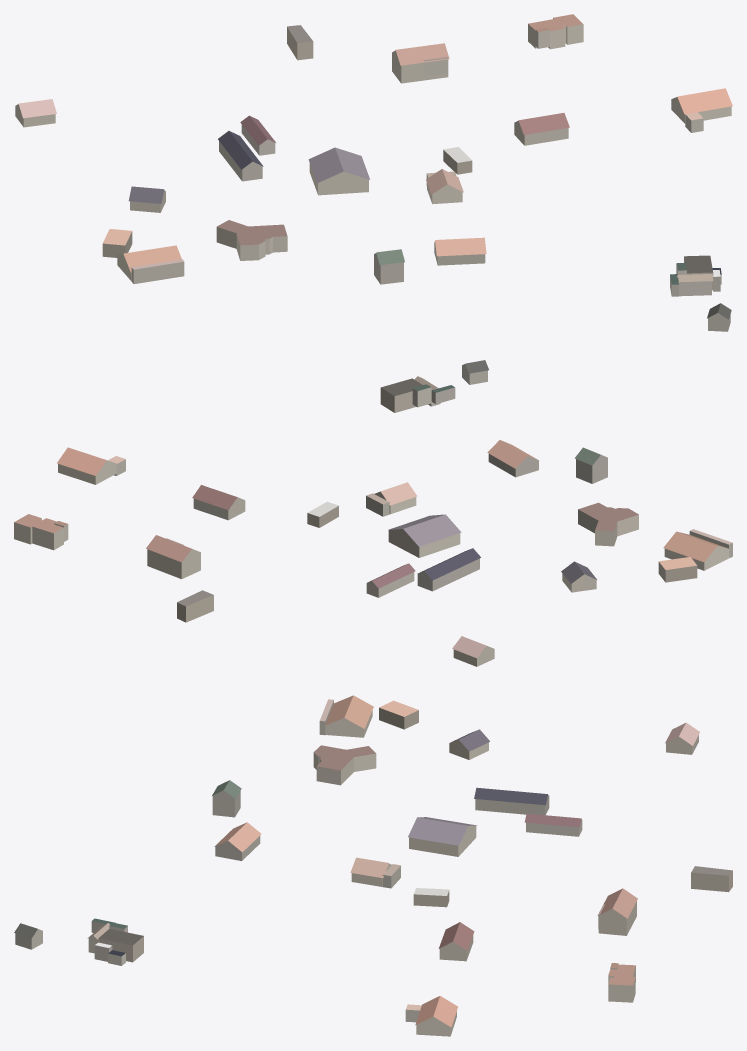
The picture shows the model from 3 angles, top to bottom: view 1: azimuth 30°, elevation 25°; view 2: azimuth 150°, elevation 25°; view 3: azimuth 270°, elevation 25°; orthographic projection. The views are drawn at different scales.
Visible parts, largest first — view 1: tuile; view 2: tuile; view 3: tuile.
Boxes of the visible parts, bbox=[...] form: tuile: bbox=[15, 14, 732, 331]; tuile: bbox=[14, 360, 732, 666]; tuile: bbox=[14, 695, 732, 1036].
Bounding box in the file's own units: 243 × 20.79 × 244.
